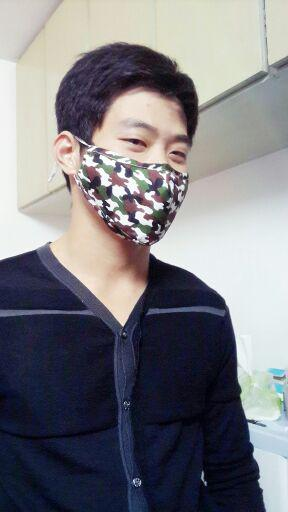OK: (68, 115, 194, 241)
